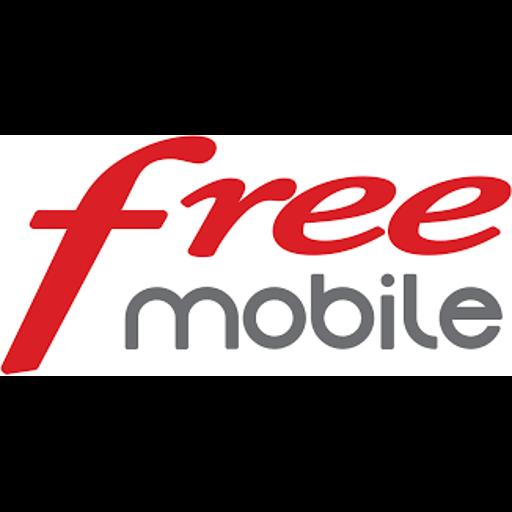Free ISP: (0, 135, 512, 376)
